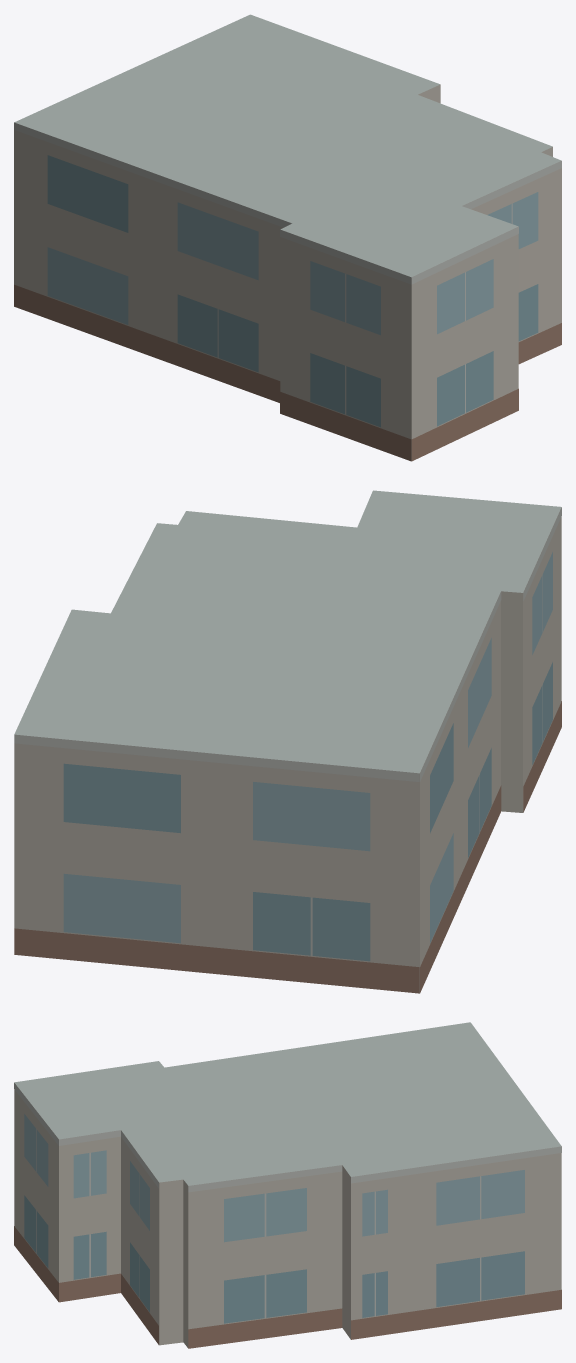
Rendered from survey-upis-32618669.glb.
3 renders of one model, top to bottom at view 1: azimuth 30°, elevation 25°; view 2: azimuth 150°, elevation 25°; view 3: azimuth 270°, elevation 25°, orthographic. The views are drawn at different scales.
Visible parts, largest first — view 1: survey-upis-32618669.tmp; view 2: survey-upis-32618669.tmp; view 3: survey-upis-32618669.tmp.
Part boxes in pixels (box(x1,y1,x2,y2)): survey-upis-32618669.tmp: box(14, 14, 561, 461); survey-upis-32618669.tmp: box(14, 490, 561, 993); survey-upis-32618669.tmp: box(14, 1022, 561, 1348).
Bounding box in the file's own units: 13.16 × 6.1 × 18.6.
